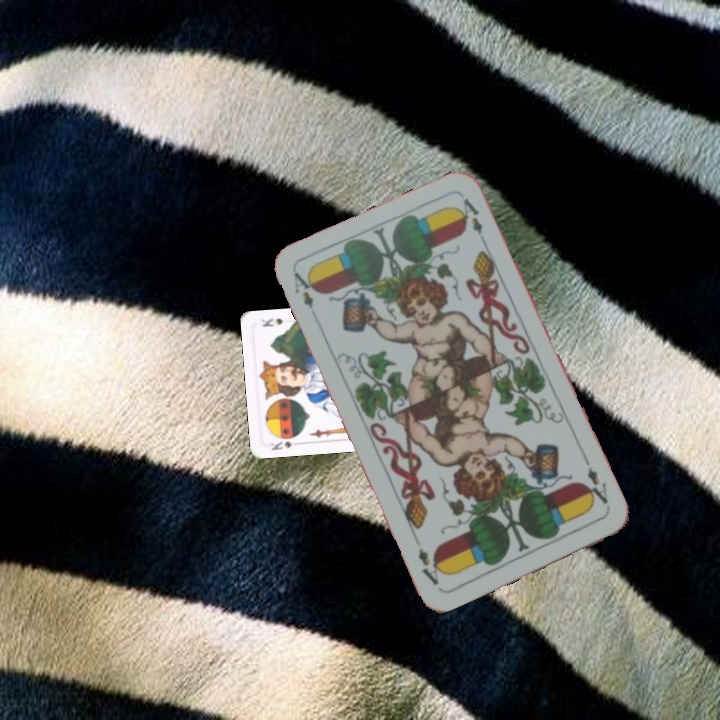EA: (579, 456, 611, 509), (289, 268, 320, 311)
SK: (266, 437, 305, 453)
